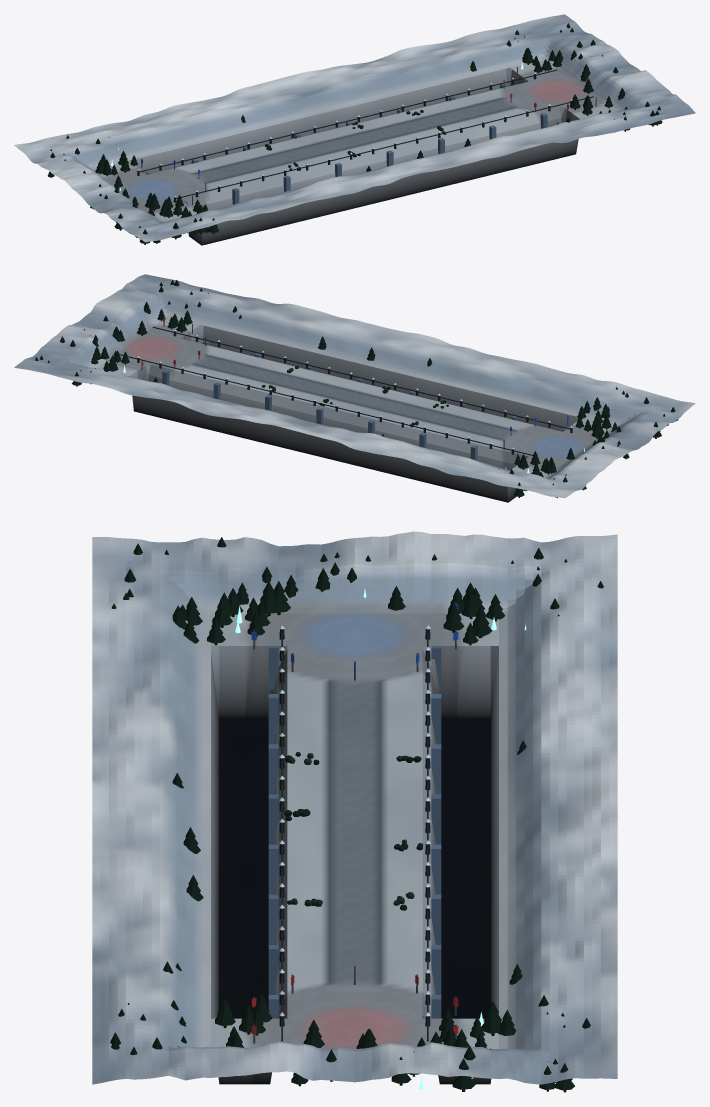
File: map_puente_niebla.glb
The picture shows the model from 3 angles, top to bottom: view 1: azimuth 30°, elevation 25°; view 2: azimuth 150°, elevation 25°; view 3: azimuth 270°, elevation 25°; orthographic projection. The views are drawn at different scales.
Parts seen in each view (by area): view 1: puente_niebla_terreno, puente_niebla_decorado; view 2: puente_niebla_terreno, puente_niebla_decorado; view 3: puente_niebla_terreno, puente_niebla_decorado.
Boxes of the visible parts, x1=… form: puente_niebla_terreno: x1=14, y1=14, x2=695, y2=245; puente_niebla_decorado: x1=47, y1=23, x2=662, y2=244; puente_niebla_terreno: x1=14, y1=274, x2=695, y2=502; puente_niebla_decorado: x1=35, y1=280, x2=678, y2=498; puente_niebla_terreno: x1=92, y1=531, x2=617, y2=1084; puente_niebla_decorado: x1=110, y1=537, x2=603, y2=1092.
Size of the model in its own units: 150 by 13.5 by 62.
